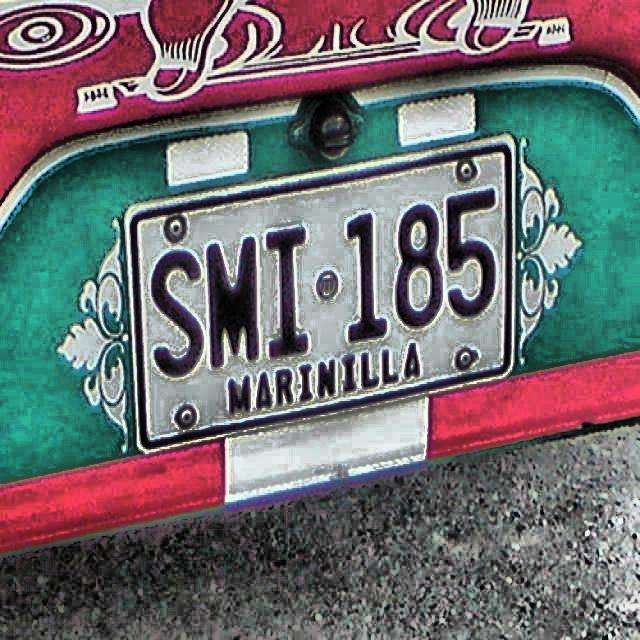plate: (129, 143, 512, 451)
